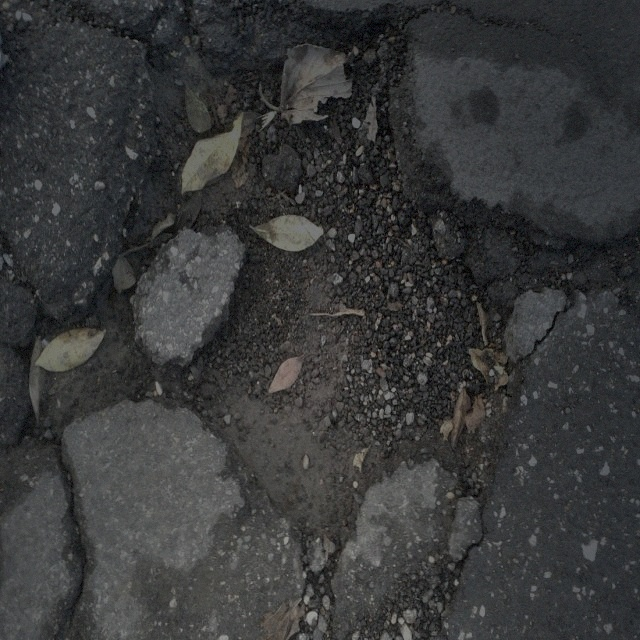pothole: (95, 80, 530, 510)
